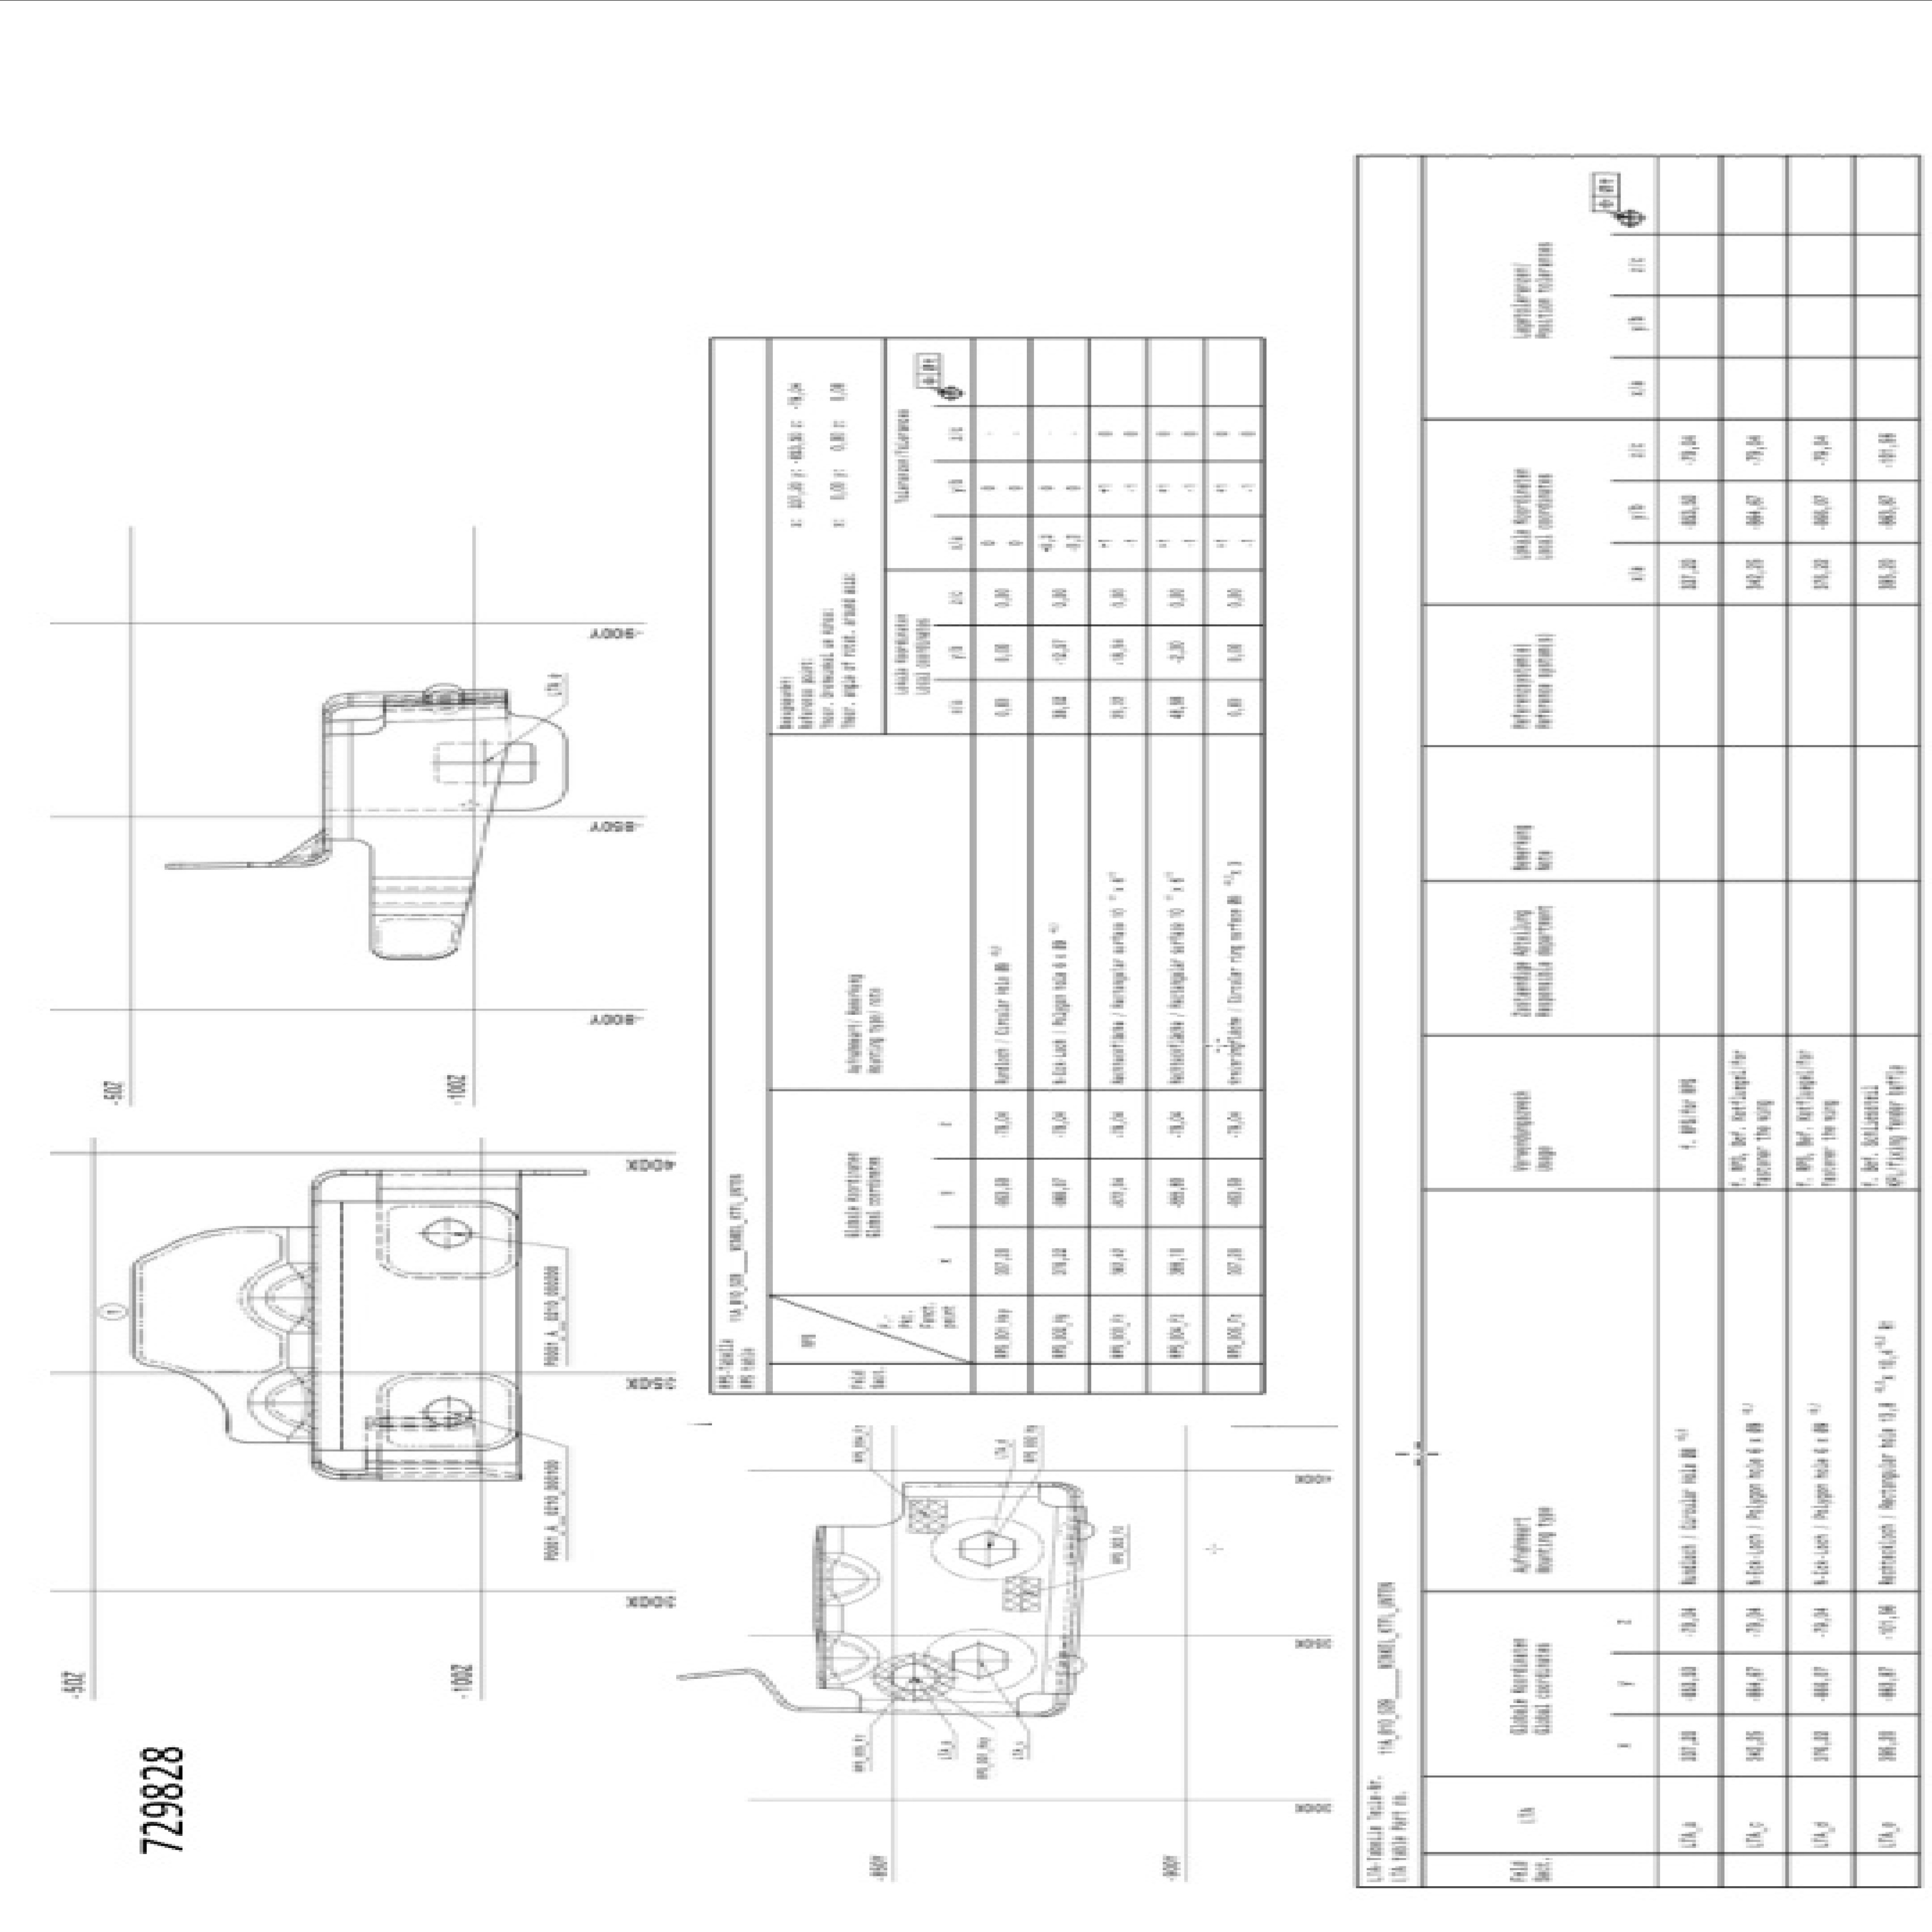InnerContour: (423, 1394, 476, 1431), (419, 1217, 478, 1251)
InnerContourAngular: (948, 1642, 1008, 1679), (959, 1529, 1017, 1566)
Reinforcement: (235, 1261, 313, 1338), (242, 1364, 315, 1438), (821, 1626, 879, 1686), (819, 1552, 881, 1608)
ThroughHole: (874, 1654, 954, 1702)
